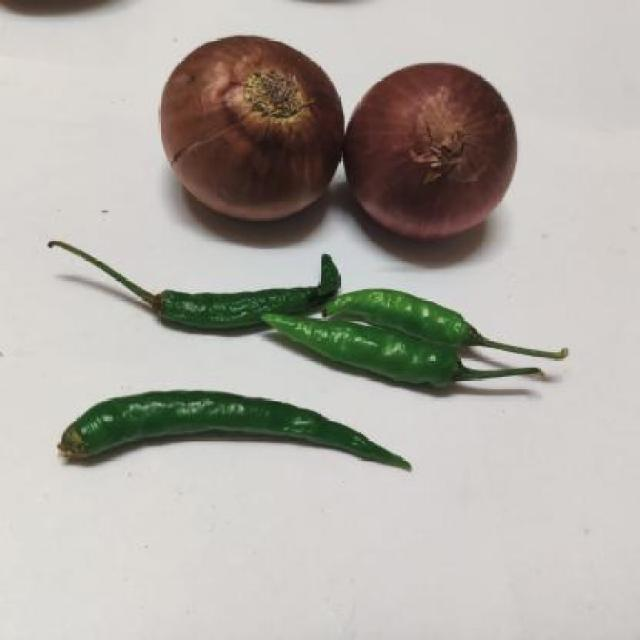Green Chili: (48, 377, 434, 503), (296, 277, 590, 394), (90, 243, 370, 354)
Onion: (150, 29, 342, 236), (344, 55, 524, 257)
